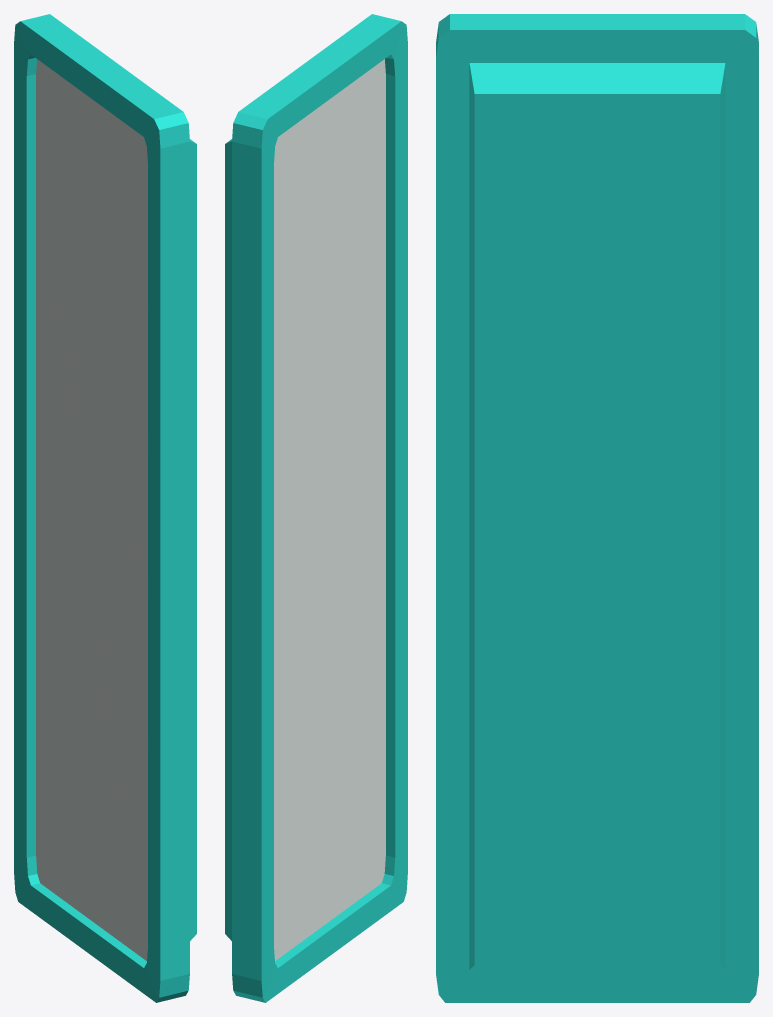
Rendered from pancarte_verticale.fbx.
The picture shows the model from 3 angles, left to right: view 1: azimuth 30°, elevation 25°; view 2: azimuth 150°, elevation 25°; view 3: azimuth 270°, elevation 25°; orthographic projection. The views are drawn at different scales.
Visible parts, largest first — view 1: pancarte_verticale, pancarte_verticale_néon; view 2: pancarte_verticale, pancarte_verticale_néon; view 3: pancarte_verticale_néon.
Boxes of the visible parts, left/top/right/bottom form: pancarte_verticale: left=26, top=53, right=148, bottom=969; pancarte_verticale_néon: left=14, top=14, right=196, bottom=1002; pancarte_verticale: left=273, top=53, right=395, bottom=969; pancarte_verticale_néon: left=225, top=14, right=407, bottom=1002; pancarte_verticale_néon: left=436, top=14, right=758, bottom=1002.
Bounding box in the file's own units: 11.52 × 180 × 54.2.
